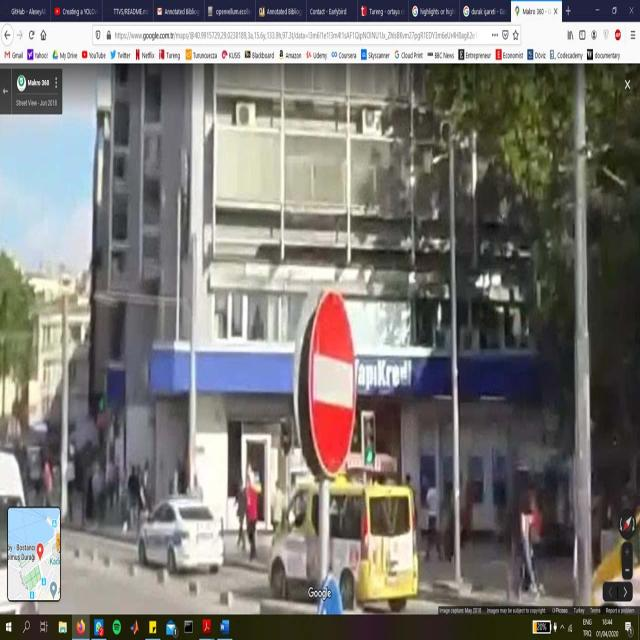girisyok: (307, 286, 353, 472)
